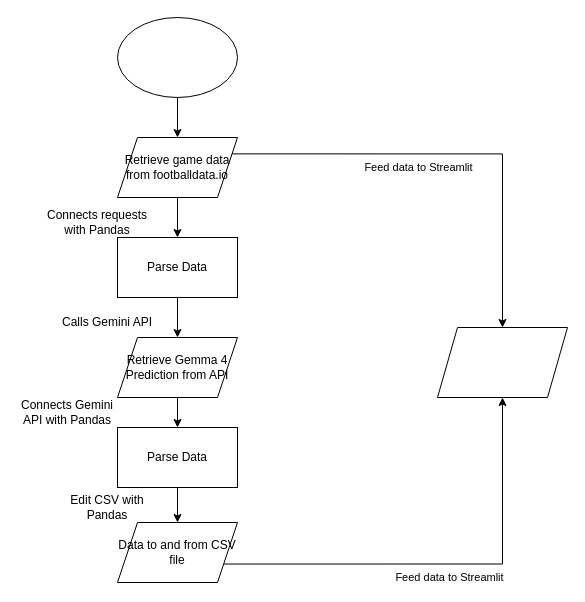
Some shapes in this 585 by 602 pixel diagram are drawn without their labels. Each missing label, with the centre of its shape:
"Display predictons and update game data to Streamlit site" belongs at (x=502, y=362).
"End of every match day" belongs at (x=177, y=57).
